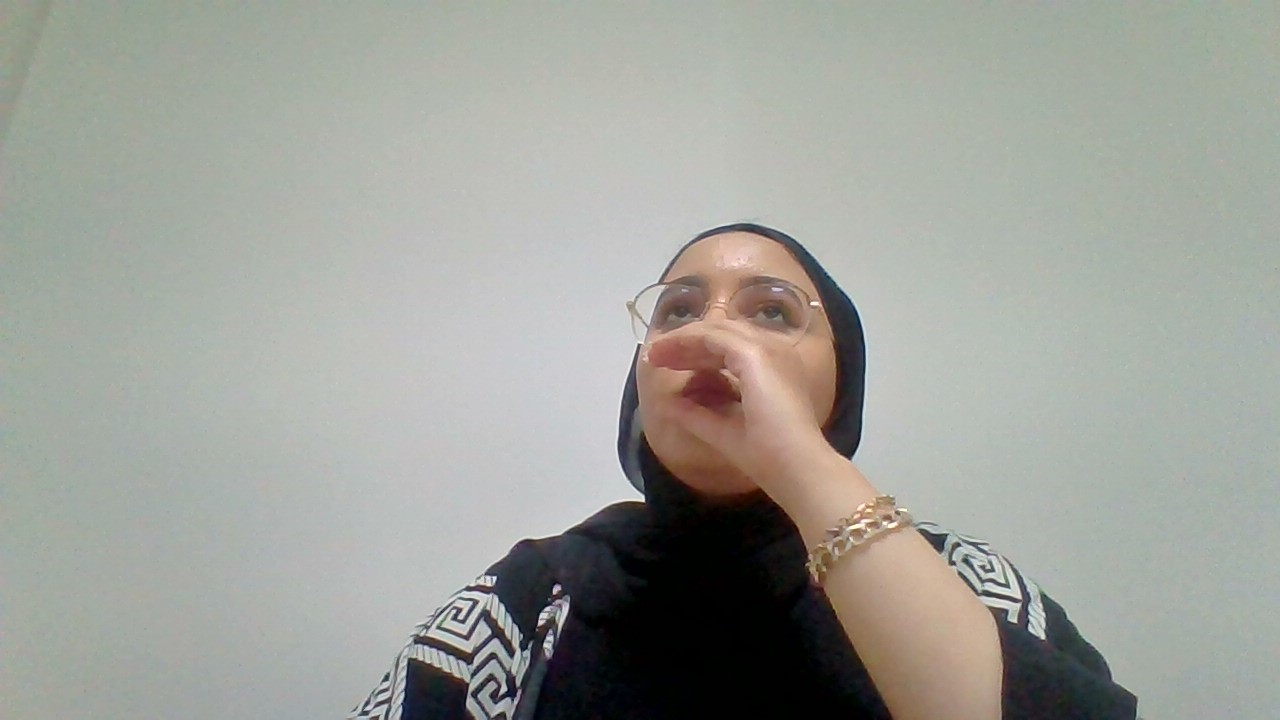drink: (635, 322, 834, 476)
